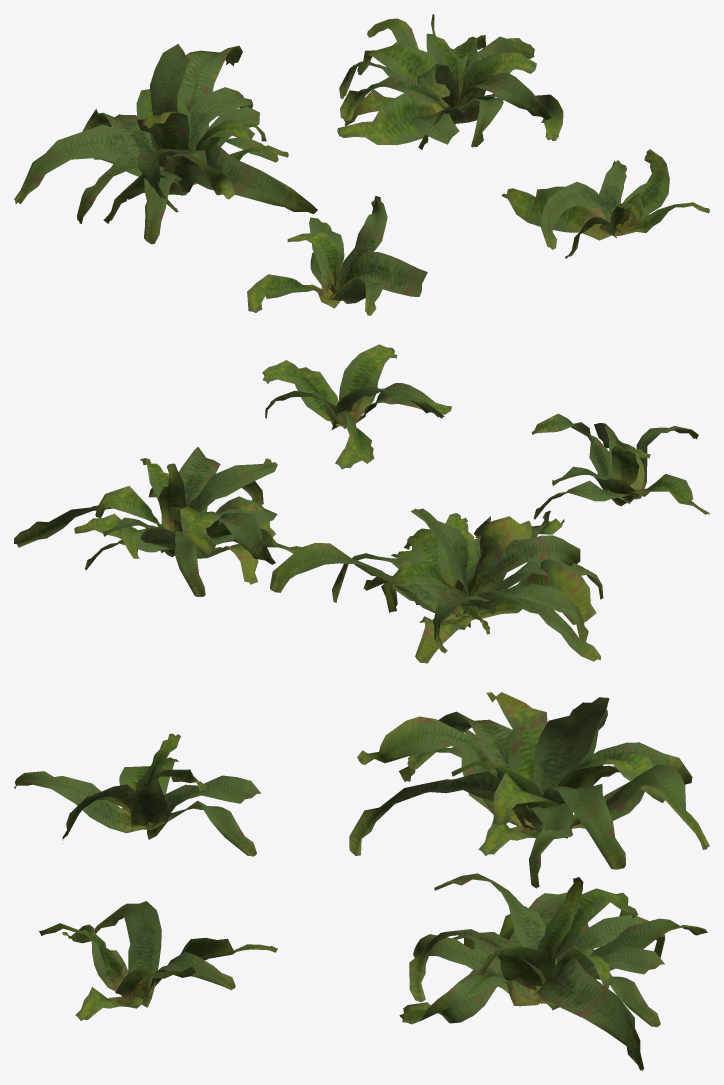
Rendered from fern_02.glb.
3 renders of one model, top to bottom at view 1: azimuth 30°, elevation 25°; view 2: azimuth 150°, elevation 25°; view 3: azimuth 270°, elevation 25°, orthographic. The views are drawn at different scales.
Parts seen in each view (by area): view 1: fern_02_b; view 2: fern_02_b; view 3: fern_02_b.
Part boxes in pixels (x1,y1,x2,y2): fern_02_b: [14, 14, 709, 315]; fern_02_b: [14, 344, 709, 663]; fern_02_b: [14, 692, 709, 1070].
Bounding box in the file's own units: 1.97 × 0.4277 × 1.72.
1 material, 1 textured.
